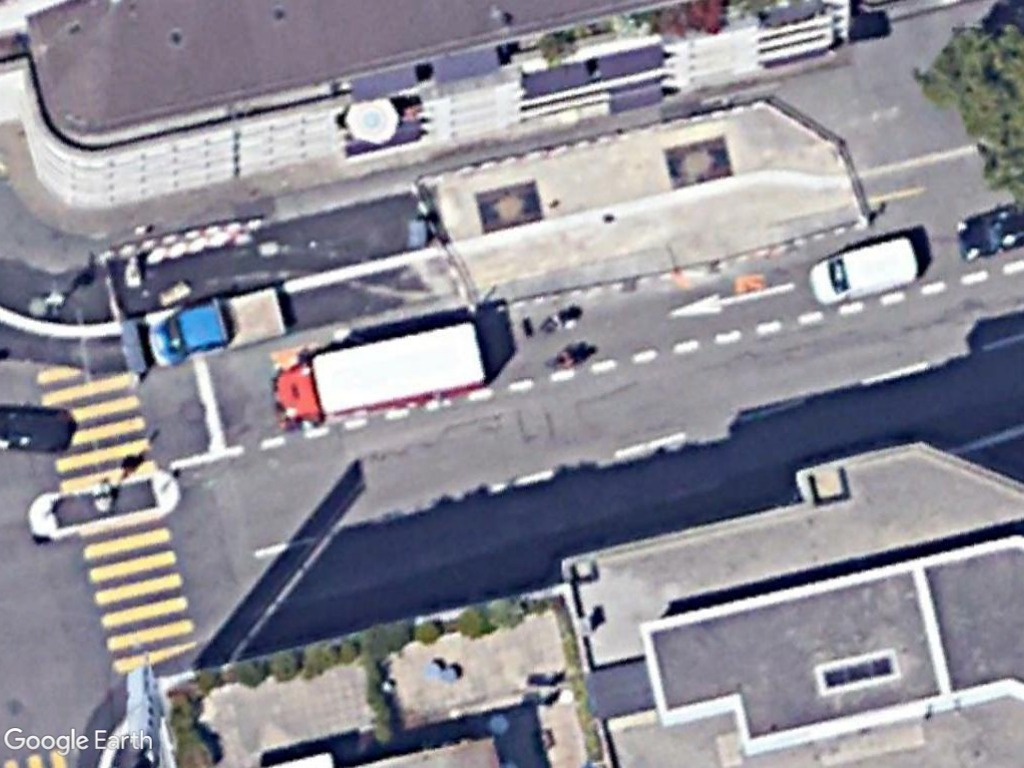truck: (269, 318, 488, 430)
van: (805, 235, 918, 309)
